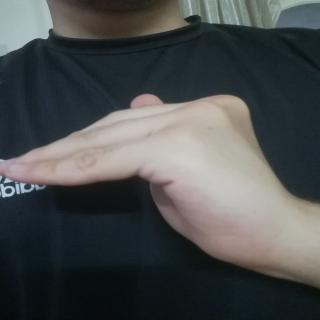KHAA: (0, 83, 294, 274)
